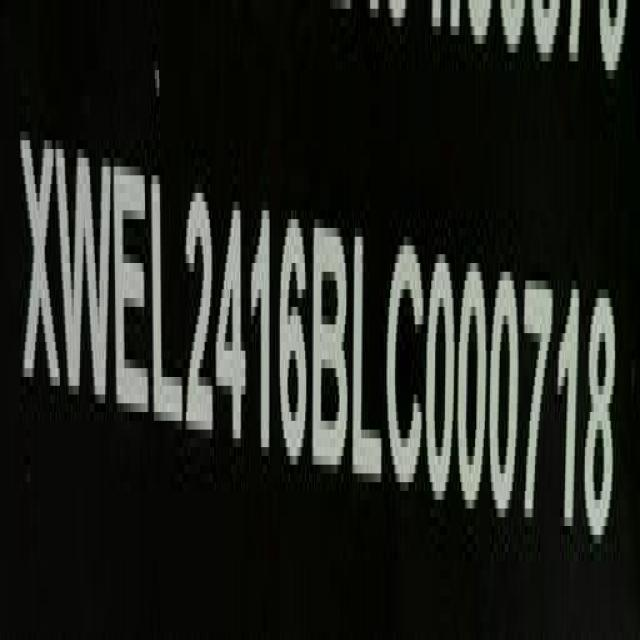0: (490, 268, 520, 527), (460, 257, 488, 513), (429, 250, 456, 510)
1: (556, 276, 580, 541), (254, 199, 275, 467)
2: (187, 182, 216, 450)
4: (215, 192, 248, 458)
6: (278, 201, 310, 469)
7: (523, 267, 552, 535)
8: (584, 280, 615, 546)
B: (313, 210, 348, 482)
C: (387, 231, 426, 498)
E: (115, 153, 152, 434)
L: (152, 169, 184, 446), (354, 228, 386, 496)
W: (57, 128, 112, 422)
X: (18, 122, 58, 410)
